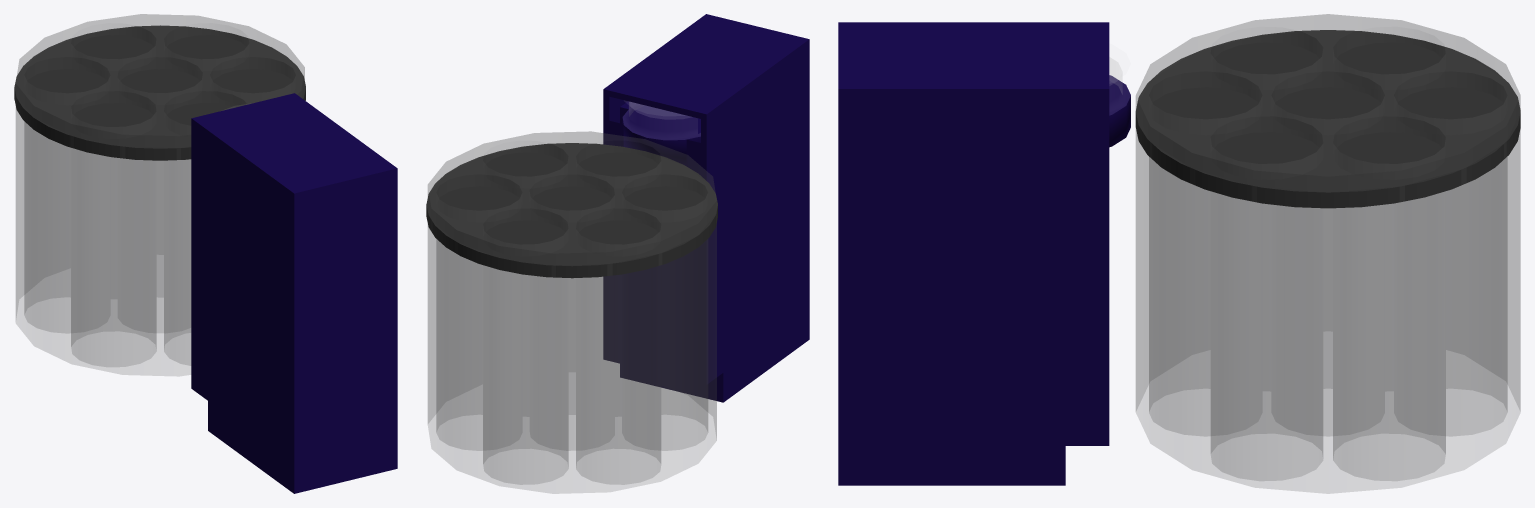
The model's file is stacker.glb.
3 renders of one model, left to right at view 1: azimuth 30°, elevation 25°; view 2: azimuth 150°, elevation 25°; view 3: azimuth 270°, elevation 25°, orthographic. The views are drawn at different scales.
Parts seen in each view (by area): view 1: support, arm-protection, base, arm-door, arm-protection-lid; view 2: support, arm-protection, base, arm-protection-lid, arm-door, arm; view 3: support, arm-door, base, arm-protection, arm-protection-lid.
Boxes of the visible parts, bbox=[...] form: support: bbox=[16, 14, 304, 375]; arm-protection: bbox=[191, 93, 397, 463]; base: bbox=[14, 25, 305, 160]; arm-door: bbox=[208, 198, 397, 493]; arm-protection-lid: bbox=[198, 94, 387, 189]; support: bbox=[428, 131, 716, 493]; arm-protection: bbox=[603, 14, 809, 384]; base: bbox=[426, 143, 717, 278]; arm-protection-lid: bbox=[609, 18, 800, 118]; arm-door: bbox=[620, 101, 809, 402]; arm: bbox=[629, 102, 690, 119]; support: bbox=[1136, 14, 1520, 493]; arm-door: bbox=[838, 75, 1130, 485]; base: bbox=[1135, 30, 1520, 208]; arm-protection: bbox=[838, 22, 1109, 445]; arm-protection-lid: bbox=[847, 26, 1109, 85].
Size of the model in its own units: 0.22 by 0.25 by 0.39.
